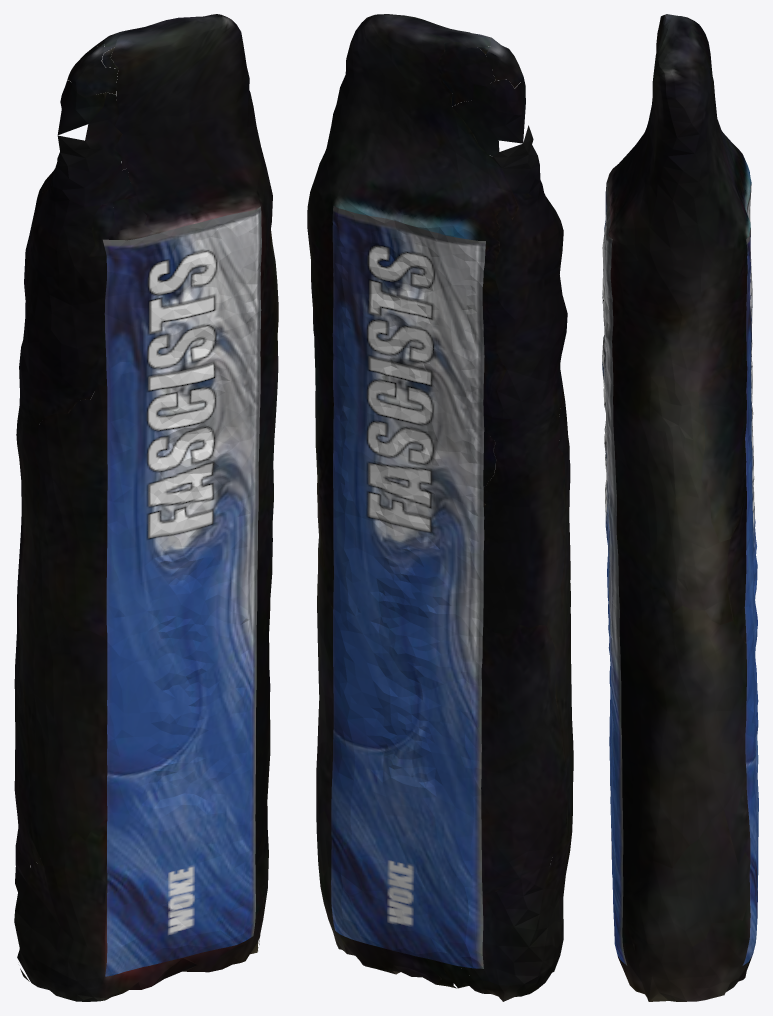
The model's file is Fascists vape.glb.
3 renders of one model, left to right at view 1: azimuth 30°, elevation 25°; view 2: azimuth 150°, elevation 25°; view 3: azimuth 270°, elevation 25°, orthographic.
Parts seen in each view (by area): view 1: Fascists vape; view 2: Fascists vape; view 3: Fascists vape.
Boxes of the visible parts, box(x1,y1,x2,y2) form: Fascists vape: box(14, 14, 278, 1001); Fascists vape: box(307, 14, 573, 1001); Fascists vape: box(602, 14, 758, 1001).
Bounding box in the file's own units: 0.033 × 0.1199 × 0.0183.
2 materials, 2 textured.
